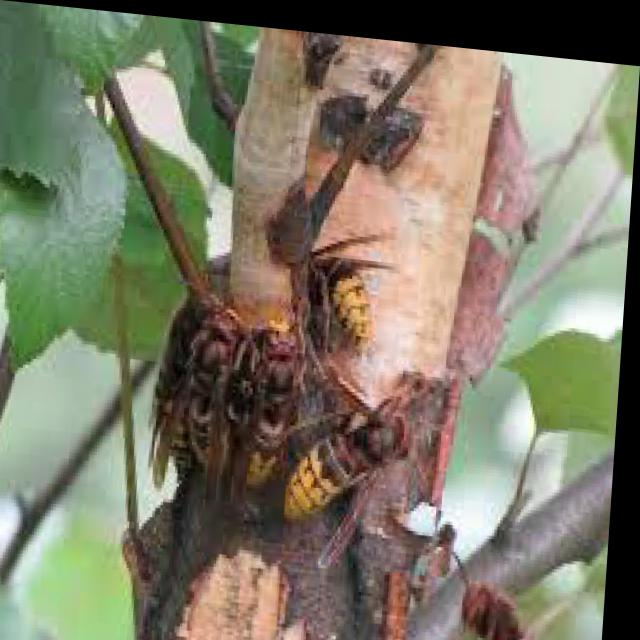Vespa Crabro: (272, 343, 450, 578), (155, 252, 262, 490), (290, 193, 420, 337), (239, 289, 322, 509), (436, 529, 575, 639)
